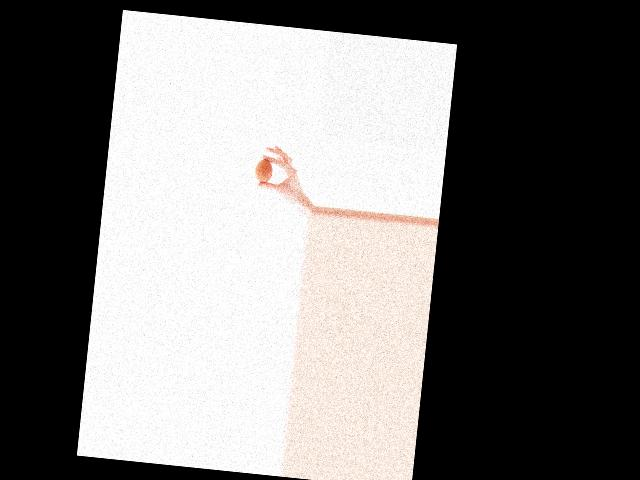egg: (253, 158, 273, 183)
